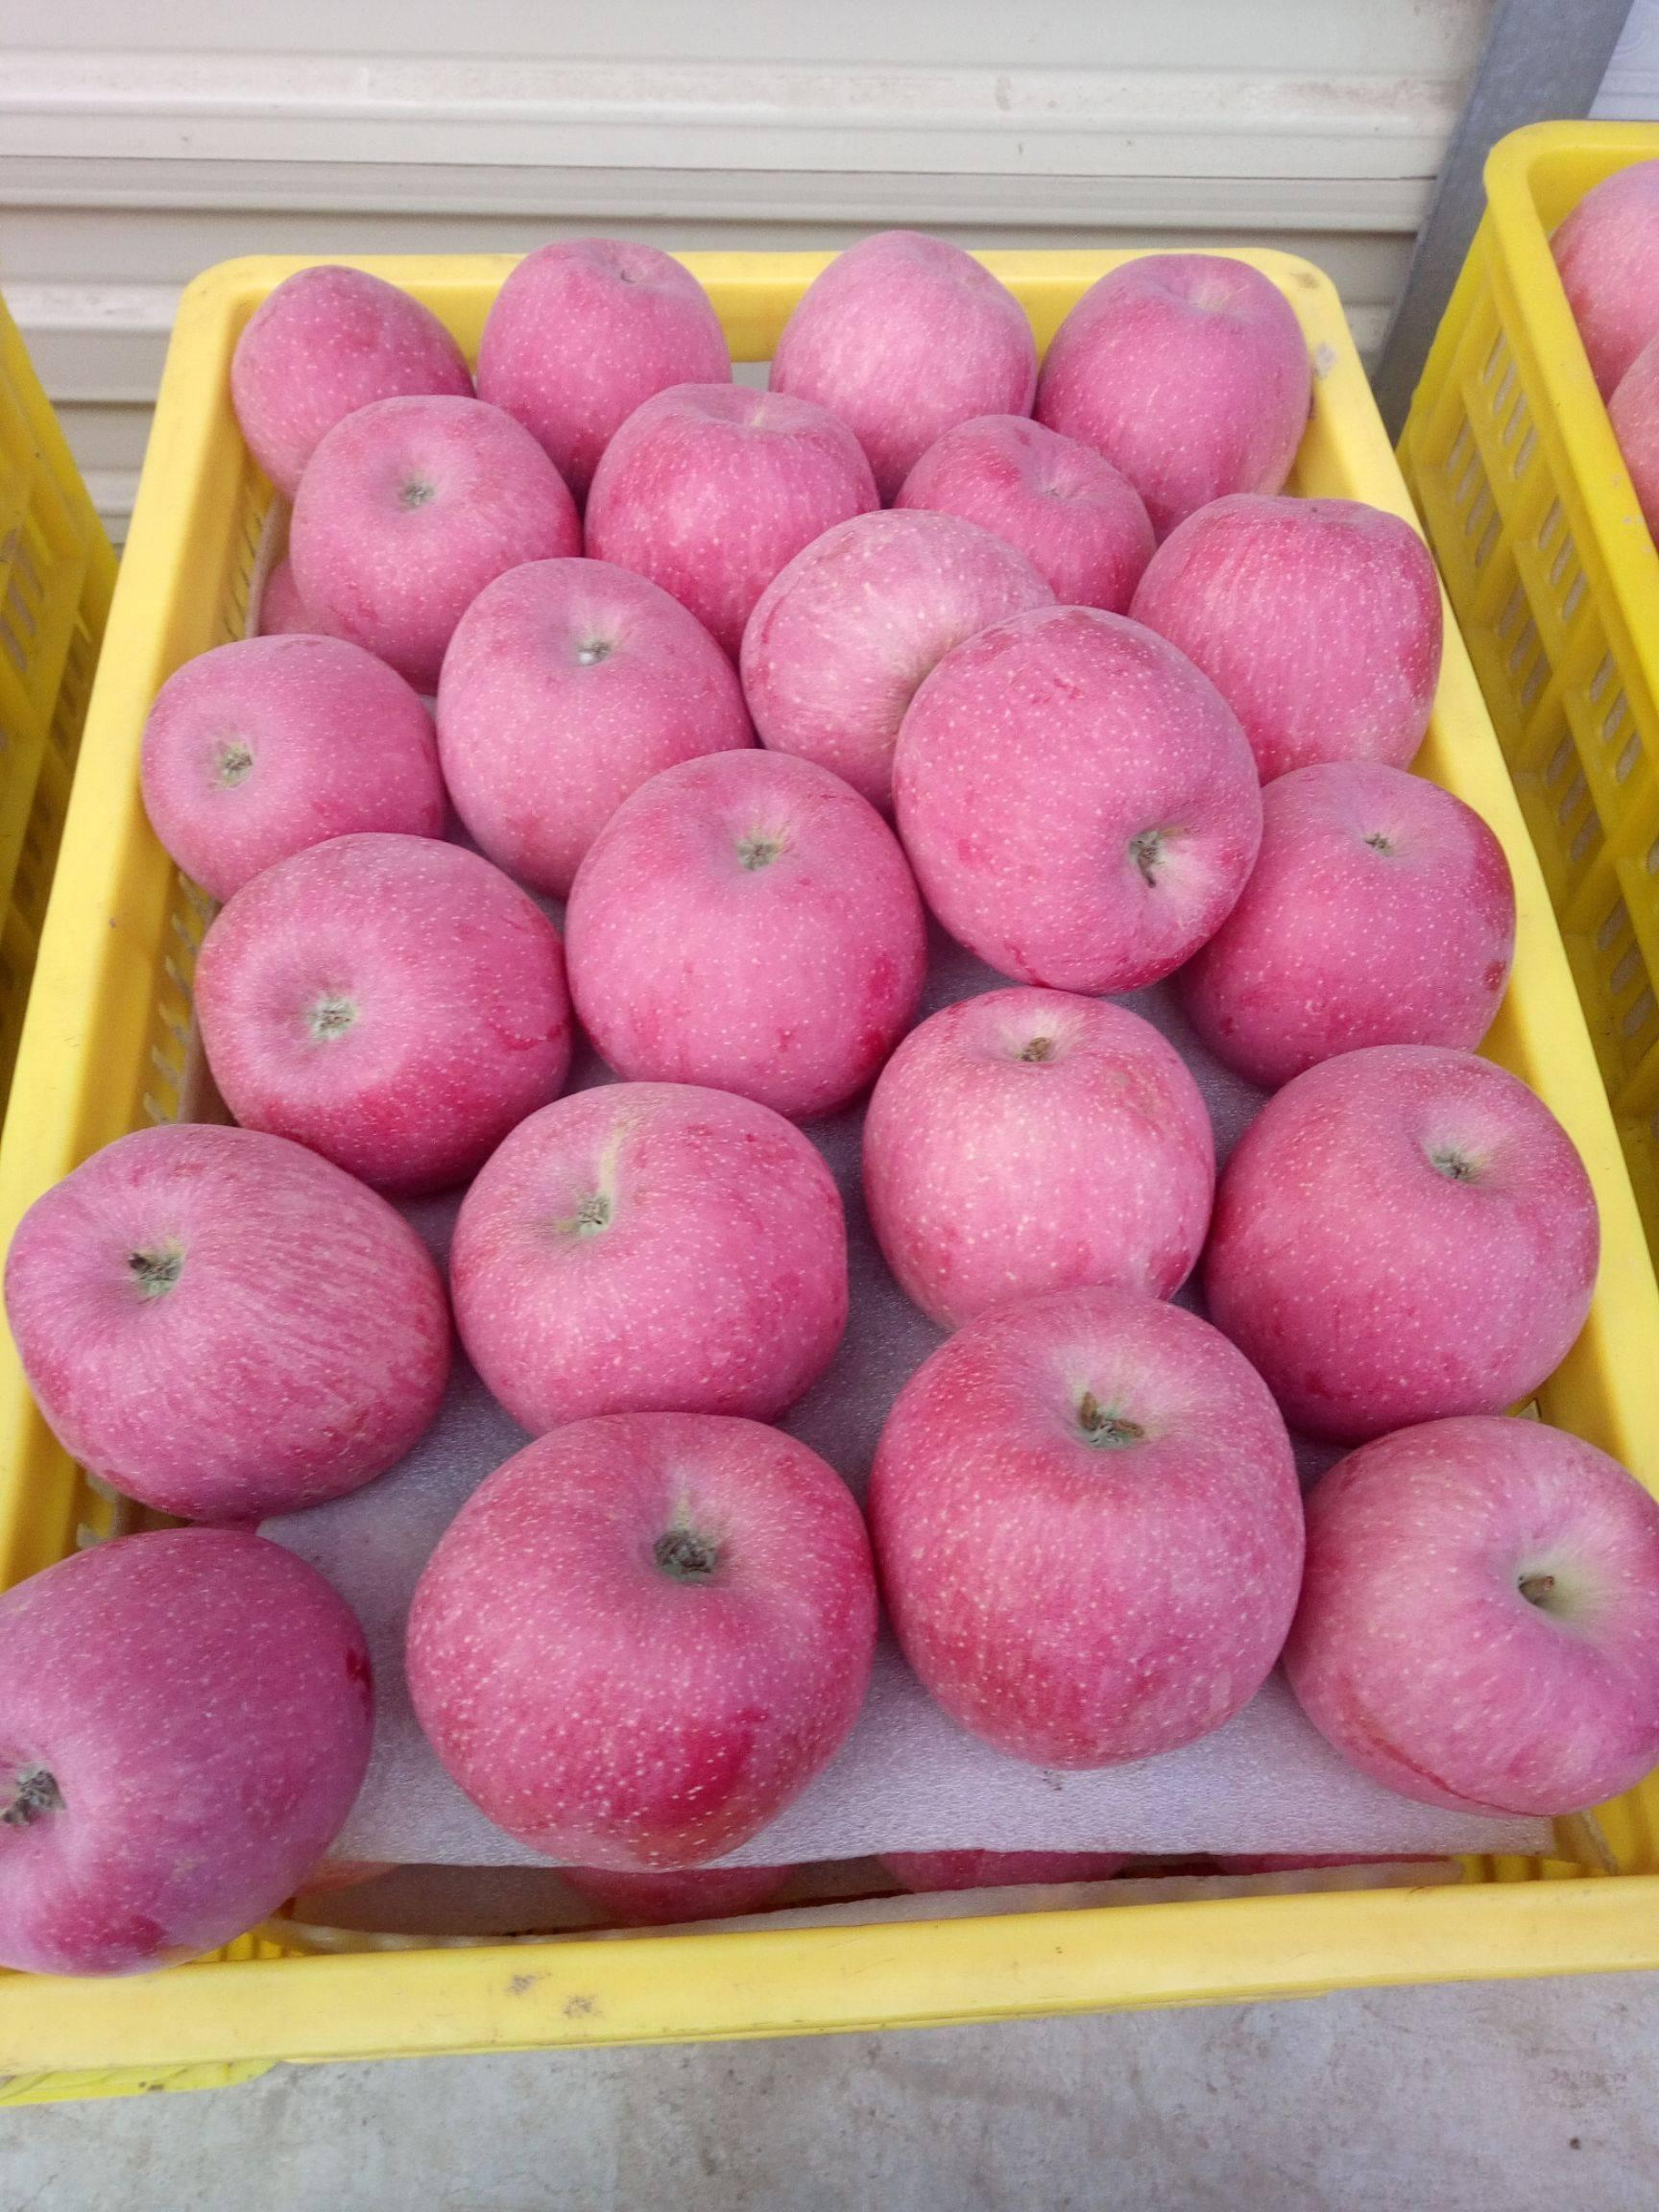apple: (406, 1409, 878, 1878), (866, 1303, 1305, 1770), (5, 1122, 457, 1526), (2, 1526, 376, 1973), (889, 596, 1274, 1001), (1208, 1049, 1596, 1449), (1286, 1416, 1659, 1817), (448, 1085, 856, 1444), (551, 730, 925, 1099), (197, 829, 554, 1146), (429, 547, 749, 860), (1136, 481, 1439, 763), (282, 397, 577, 655), (587, 366, 882, 624), (1023, 256, 1317, 512), (145, 622, 439, 867), (774, 223, 1047, 451), (230, 253, 469, 472), (477, 225, 716, 444)
